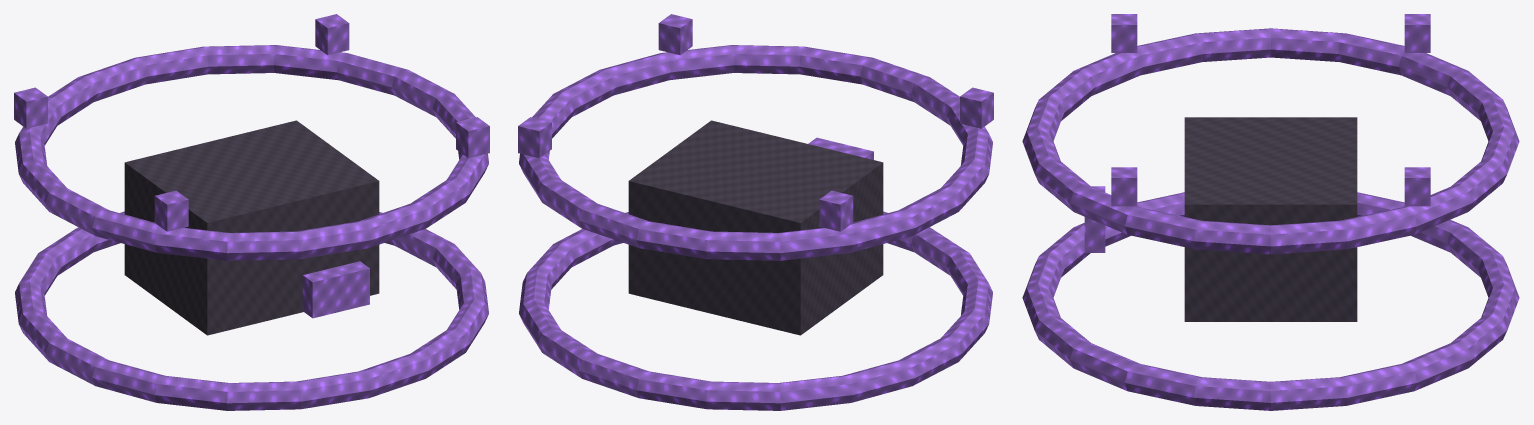
File: underworld-refined-shardstone-block.glb
3 views of the same model, side by side, from view 1: azimuth 30°, elevation 25°; view 2: azimuth 150°, elevation 25°; view 3: azimuth 270°, elevation 25° (orthographic). The views are drawn at different scales.
Visible parts, largest first — view 1: core, block-band-1, block-band-0, stamp, corner-1-1, corner--1--1, corner-1--1, corner--1-1; view 2: core, block-band-1, block-band-0, corner-1--1, corner--1-1, corner-1-1, corner--1--1, stamp; view 3: block-band-1, core, block-band-0, corner-1--1, corner-1-1, corner--1--1, corner--1-1, stamp.
Boxes of the visible parts, <box> form: core: <box>124,120,379,335</box>; block-band-1: <box>15,45,488,260</box>; block-band-0: <box>15,211,488,410</box>; stamp: <box>302,261,369,318</box>; corner-1-1: <box>315,14,349,55</box>; corner--1--1: <box>154,190,188,231</box>; corner-1--1: <box>456,117,489,158</box>; corner--1-1: <box>14,87,47,128</box>; core: <box>628,120,883,335</box>; block-band-1: <box>519,45,992,260</box>; block-band-0: <box>519,211,992,410</box>; corner-1--1: <box>658,14,692,55</box>; corner--1-1: <box>819,190,853,231</box>; corner-1-1: <box>518,117,551,158</box>; corner--1--1: <box>960,87,993,128</box>; stamp: <box>808,137,873,159</box>; block-band-1: <box>1022,28,1519,254</box>; core: <box>1184,117,1357,321</box>; block-band-0: <box>1022,192,1519,410</box>; corner-1--1: <box>1111,167,1137,206</box>; corner-1-1: <box>1404,167,1430,206</box>; corner--1--1: <box>1111,14,1137,52</box>; corner--1-1: <box>1404,14,1430,52</box>; stamp: <box>1084,186,1105,252</box>.
Size of the model in its own units: 0.288 by 0.138 by 0.288.
2 materials, 2 textured.
